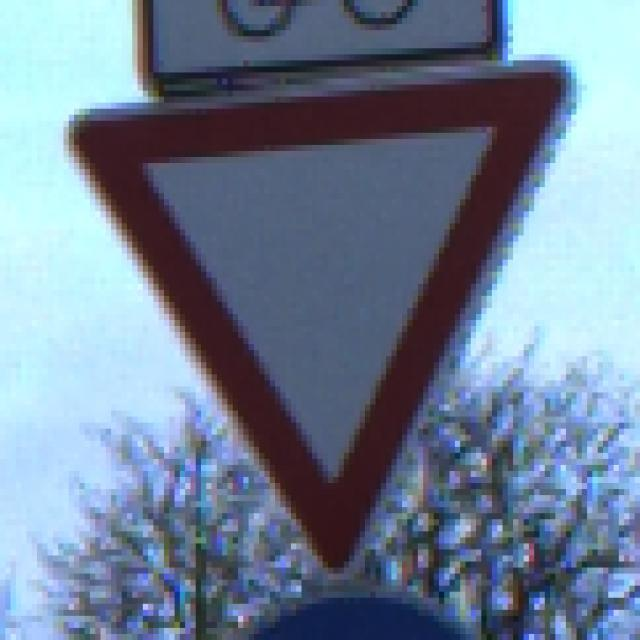give way: (61, 67, 571, 578)
